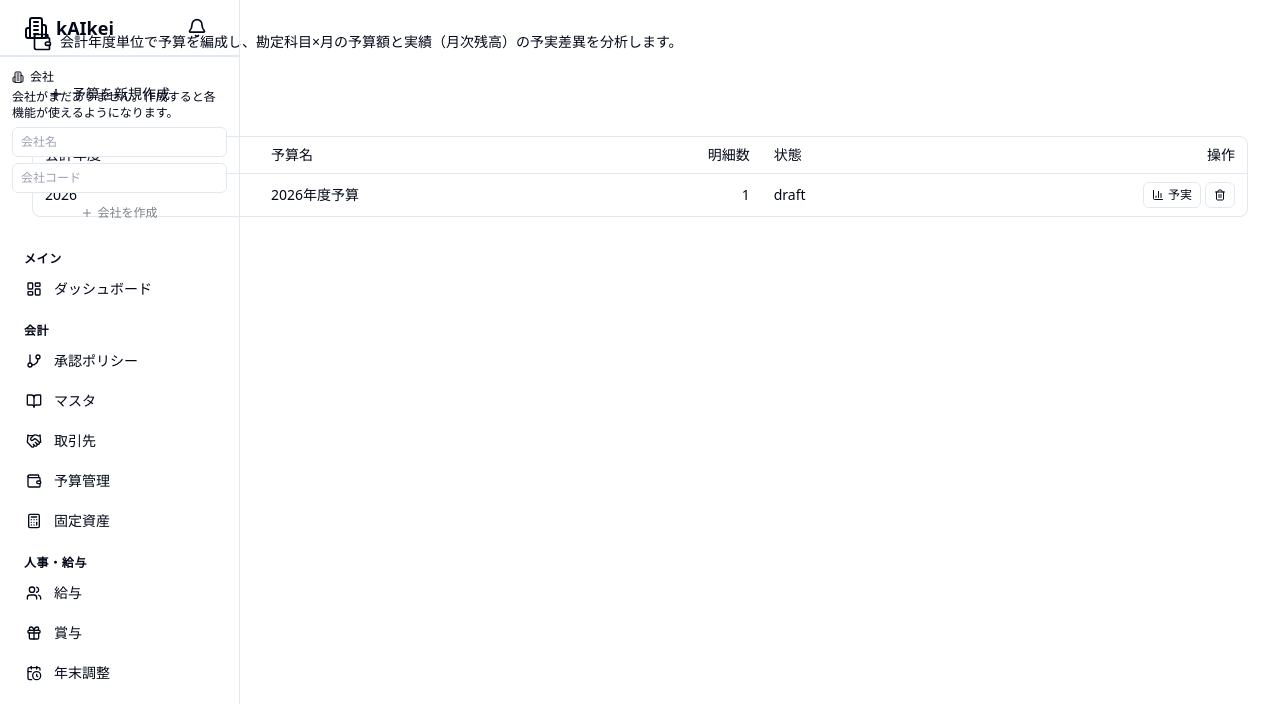
BudgetsPage 予実分析 › 予算超過の科目だけを強調する
This screenshot has width=1280, height=704.
Expected: the text "2026年度予算" is shown, [259,174,575,216]
Click the button with aria-label "2026年度予算 の予実分析". click: click(1172, 195)
box: [1143,182,1201,208]
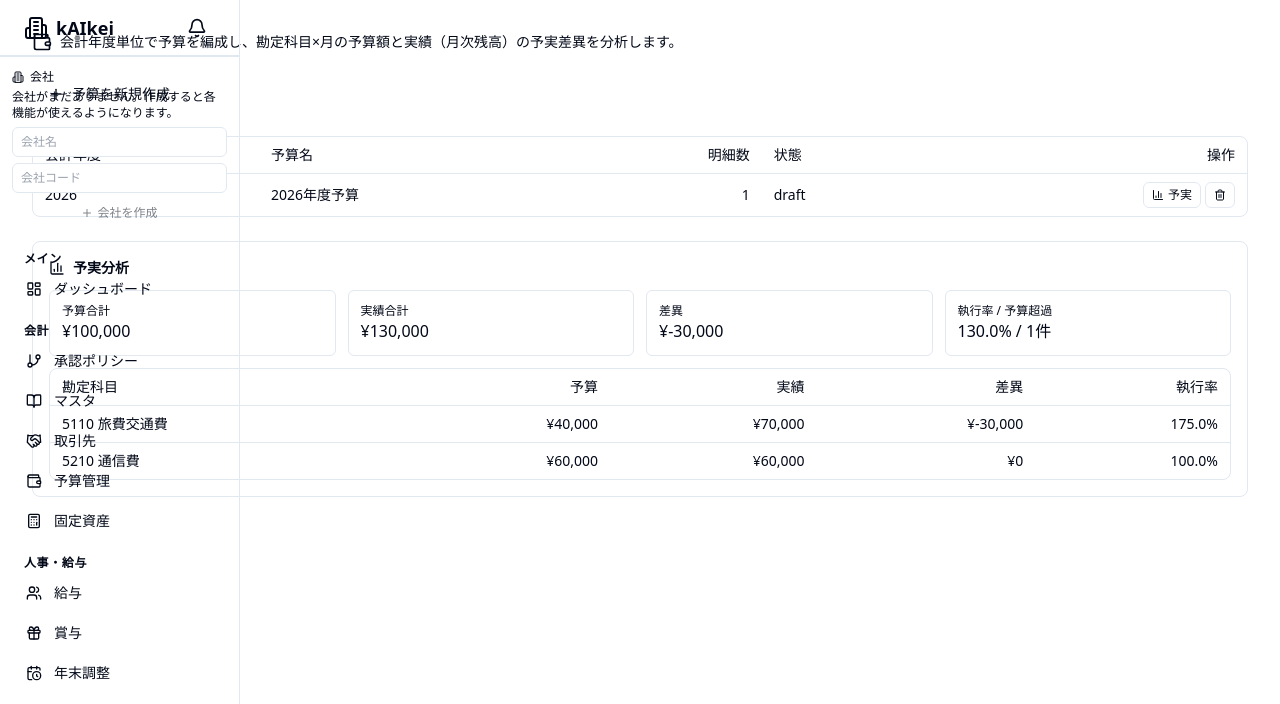
Expected: the text "5110 旅費交通費" is shown, [50,406,403,442]
